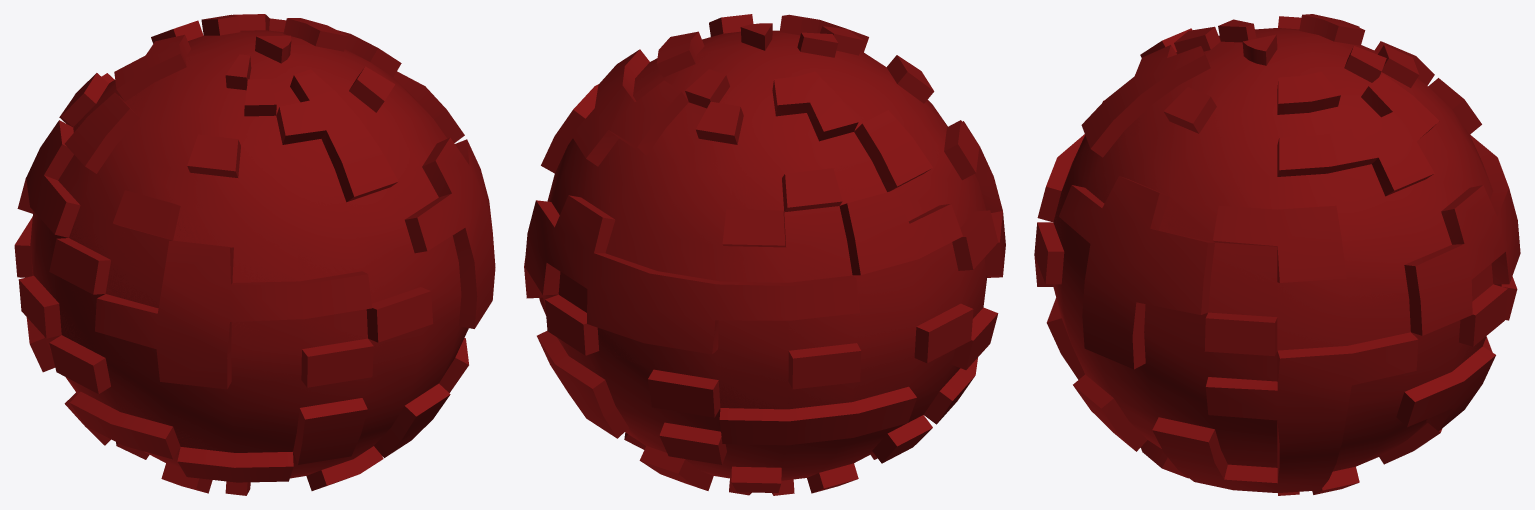
Rendered from eBullet2.fbx.
3 renders of one model, left to right at view 1: azimuth 30°, elevation 25°; view 2: azimuth 150°, elevation 25°; view 3: azimuth 270°, elevation 25°, orthographic.
Parts seen in each view (by area): view 1: pSphere1; view 2: pSphere1; view 3: pSphere1.
Part boxes in pixels (<box>): pSphere1: <box>14,14,495,495</box>; pSphere1: <box>524,14,1005,495</box>; pSphere1: <box>1034,14,1520,495</box>.
Bounding box in the file's own units: 2.14 × 2.14 × 2.14.
